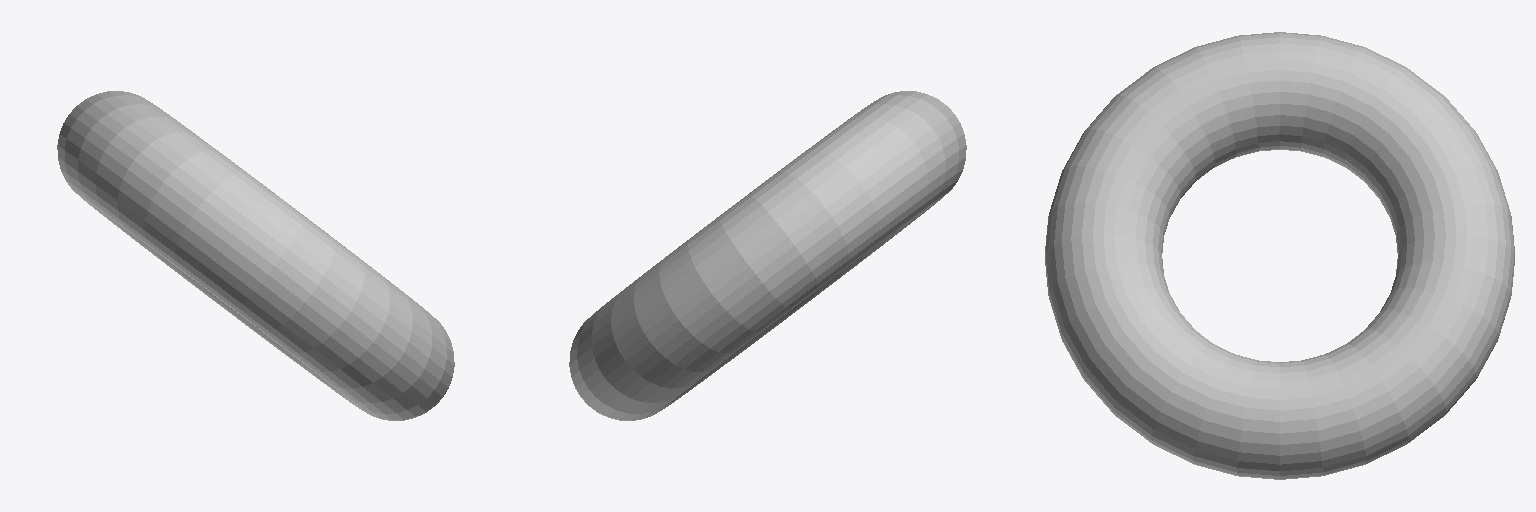
3 renders of one model, left to right at view 1: azimuth 30°, elevation 25°; view 2: azimuth 150°, elevation 25°; view 3: azimuth 270°, elevation 25°, orthographic.
Parts seen in each view (by area): view 1: SurfTorus; view 2: SurfTorus; view 3: SurfTorus.
Boxes of the visible parts, box(x1,y1,x2,y2) form: SurfTorus: box(57, 91, 454, 420); SurfTorus: box(569, 91, 966, 420); SurfTorus: box(1045, 32, 1514, 479).
Bounding box in the file's own units: 111 × 109 × 141.